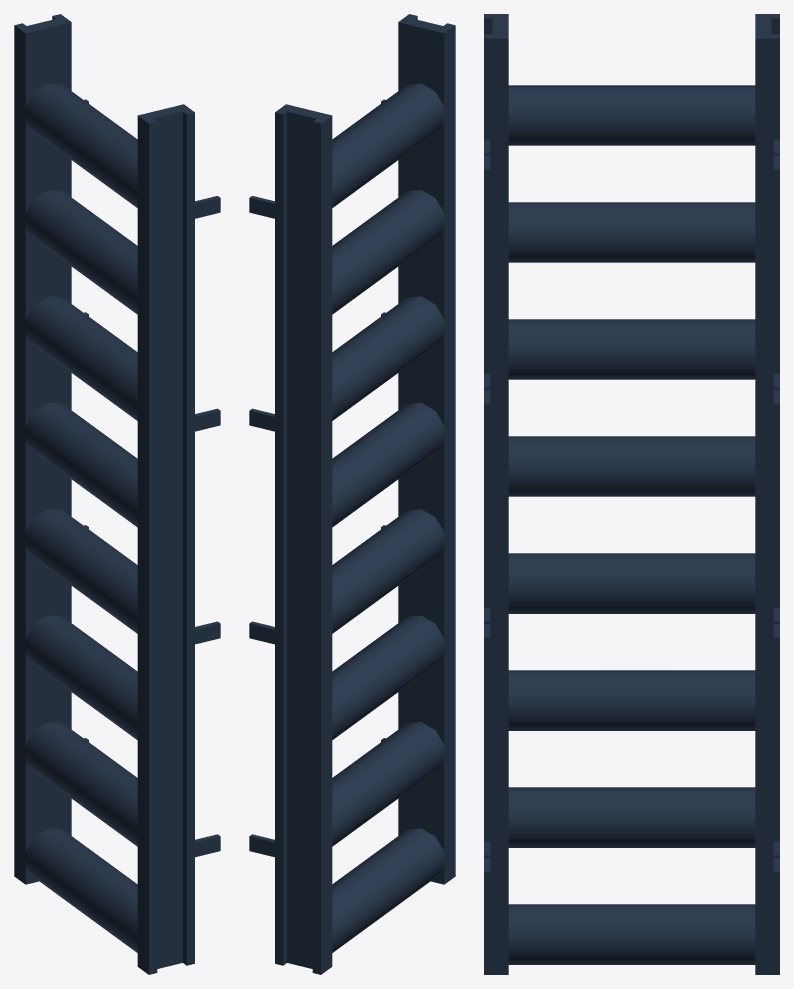
File: Ladder.fbx
3 renders of one model, left to right at view 1: azimuth 30°, elevation 25°; view 2: azimuth 150°, elevation 25°; view 3: azimuth 270°, elevation 25°, orthographic. The views are drawn at different scales.
Visible parts, largest first — view 1: Ladder; view 2: Ladder; view 3: Ladder.
Part boxes in pixels (left/top/right/bottom): Ladder: left=14, top=14, right=220, bottom=974; Ladder: left=249, top=14, right=455, bottom=974; Ladder: left=484, top=14, right=779, bottom=974.
Bounding box in the file's own units: 4.8 × 16.76 × 1.48.
